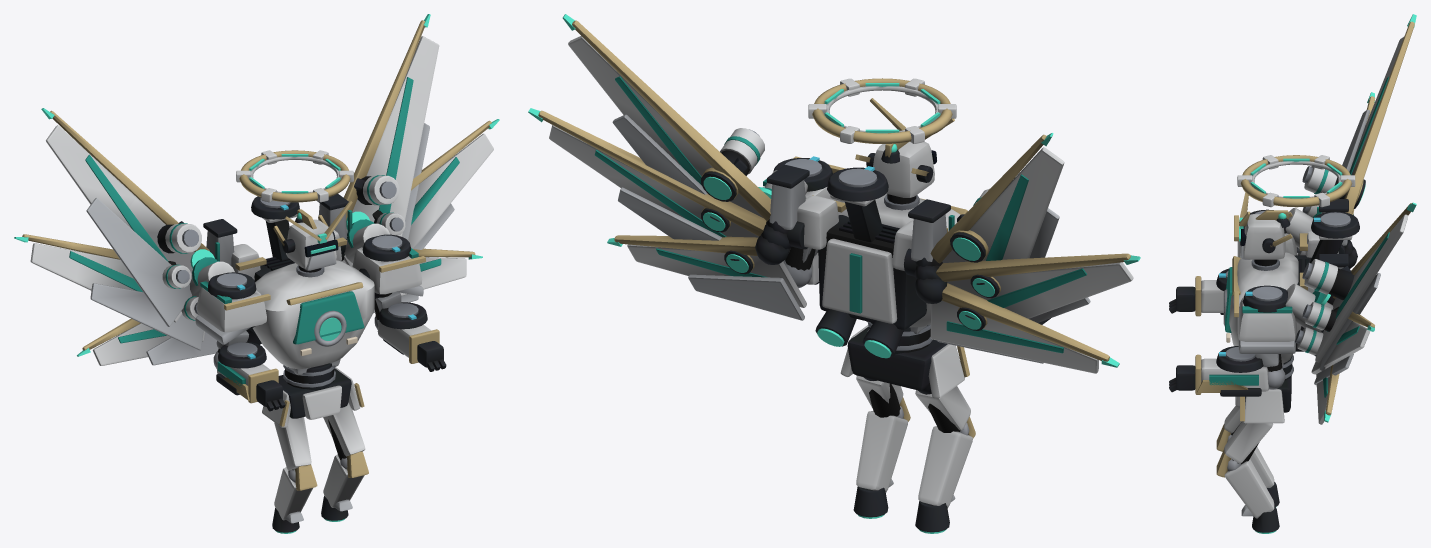
Rendered from ex_seraph_7.glb.
3 renders of one model, left to right at view 1: azimuth 30°, elevation 25°; view 2: azimuth 150°, elevation 25°; view 3: azimuth 270°, elevation 25°, orthographic. The views are drawn at different scales.
Parts seen in each view (by area): view 1: body, flap_4, flap_0, flap_5, flap_1, flap_6, fan_0, flap_2; view 2: body, flap_0, flap_1, flap_4, flap_2, flap_5, flap_6, fan_0; view 3: body, flap_0, flap_4, fan_0, flap_1, flap_2, flap_5.
Boxes of the visible parts, x1,y1,x2,y2 form: body: (189,194,446,533); flap_4: (41,108,209,326); flap_0: (343,14,439,240); flap_5: (14,234,204,350); flap_1: (344,119,499,266); flap_6: (77,296,218,365); fan_0: (236,150,353,202); flap_2: (341,248,482,313); body: (758,98,1050,533); flap_0: (562,14,789,233); flap_1: (528,108,791,249); flap_4: (915,133,1064,266); flap_2: (607,235,806,320); flap_5: (914,253,1140,322); flap_6: (914,278,1119,373); fan_0: (808,78,956,143); body: (1169,192,1359,533); flap_0: (1302,202,1416,370); flap_4: (1302,14,1416,247); fan_0: (1237,155,1355,207); flap_1: (1302,302,1374,385); flap_2: (1295,327,1339,424); flap_5: (1302,92,1375,255).
Bounding box in the file's own units: 11.72 × 9.45 × 5.19.
